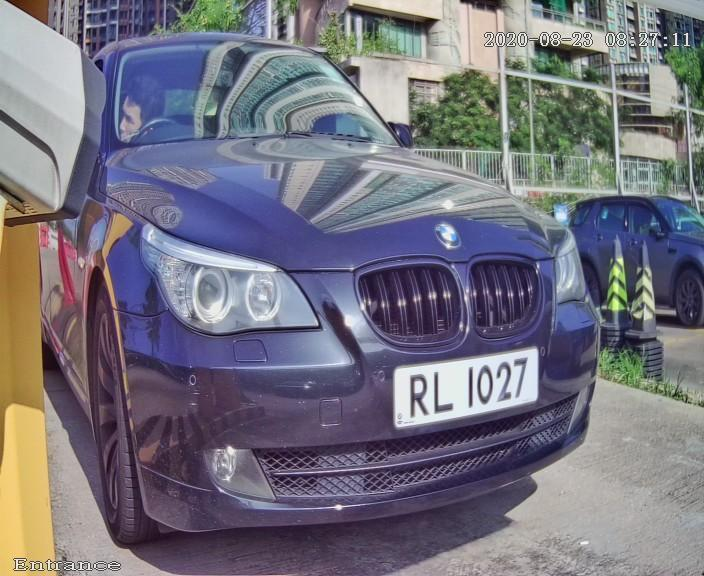Car: (10, 13, 642, 553)
License Plate: (383, 322, 562, 447)
